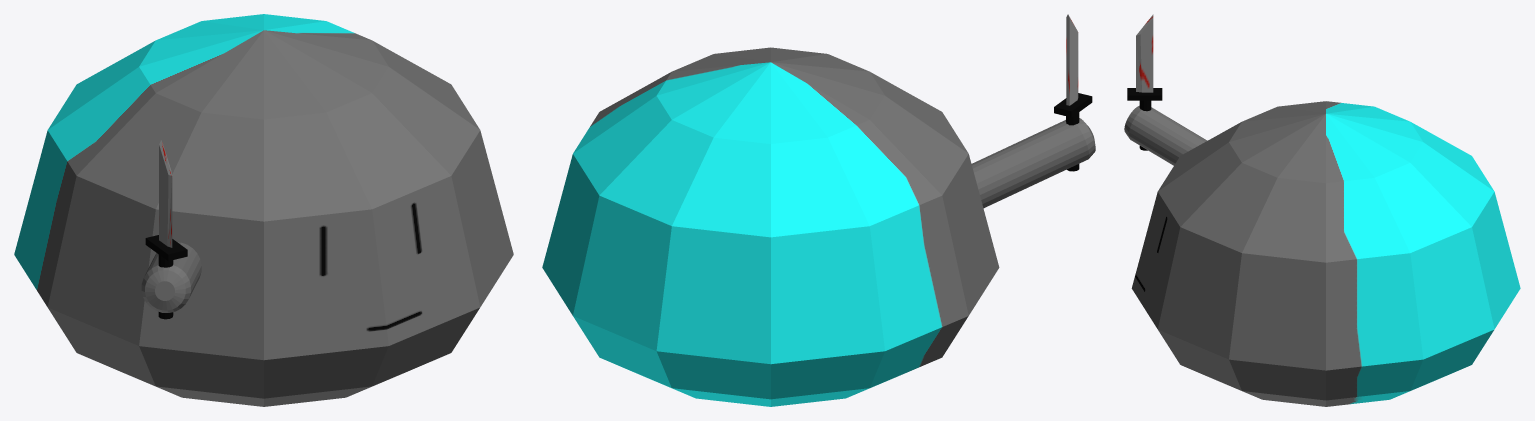
Rendered from shieldEnemy.obj.
3 renders of one model, left to right at view 1: azimuth 30°, elevation 25°; view 2: azimuth 150°, elevation 25°; view 3: azimuth 270°, elevation 25°, orthographic. The views are drawn at different scales.
Parts seen in each view (by area): view 1: 本体; view 2: 本体; view 3: 本体.
Part boxes in pixels (box(x1,y1,x2,y2)): 本体: box(14, 14, 513, 406); 本体: box(542, 14, 1095, 406); 本体: box(1124, 14, 1520, 406).
Size of the model in its own units: 1.36 by 0.963 by 1.32.
